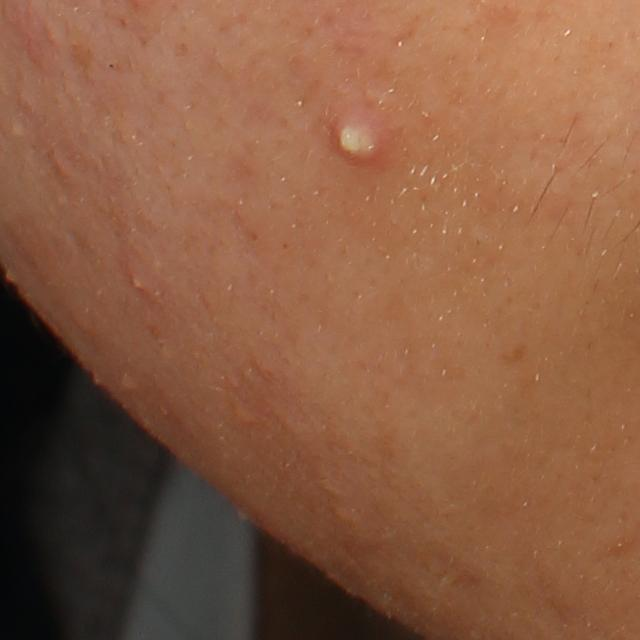comedo: (8, 116, 35, 141)
pustule: (313, 102, 393, 167)
